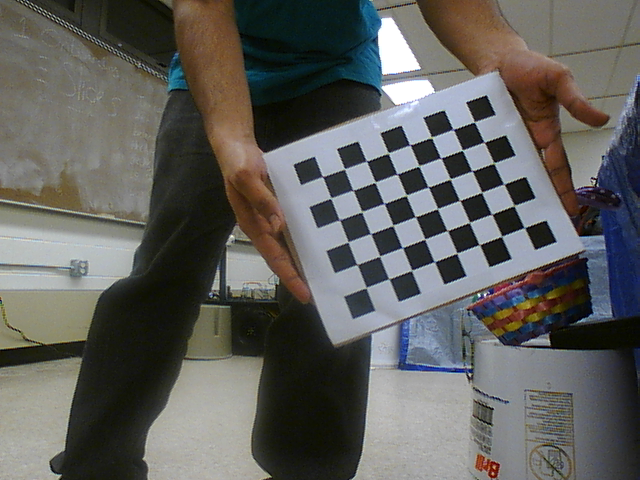bunny: (476, 248, 594, 356)
